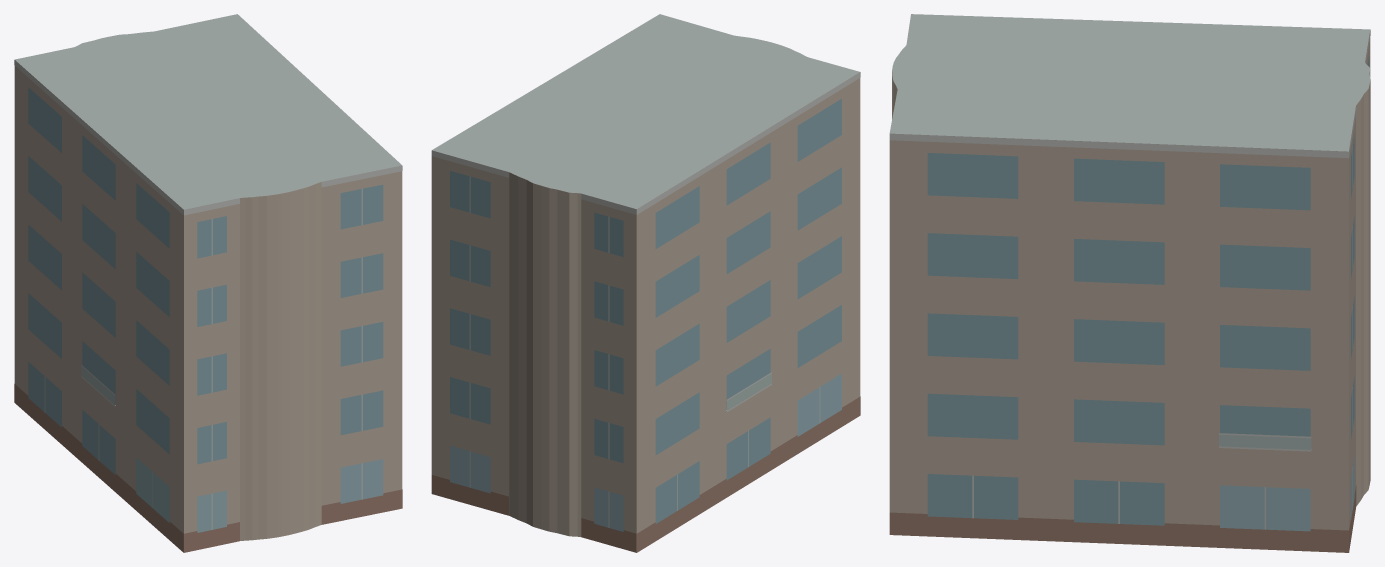
Rendered from survey-upis-32990916.glb.
3 renders of one model, left to right at view 1: azimuth 30°, elevation 25°; view 2: azimuth 150°, elevation 25°; view 3: azimuth 270°, elevation 25°, orthographic. The views are drawn at different scales.
Parts seen in each view (by area): view 1: survey-upis-32990916.tmp; view 2: survey-upis-32990916.tmp; view 3: survey-upis-32990916.tmp.
Boxes of the visible parts, x1,y1,x2,y2 form: survey-upis-32990916.tmp: [14, 14, 402, 552]; survey-upis-32990916.tmp: [431, 14, 860, 552]; survey-upis-32990916.tmp: [889, 14, 1370, 552].
Bounding box in the file's own units: 10.81 × 14.7 × 15.97.
